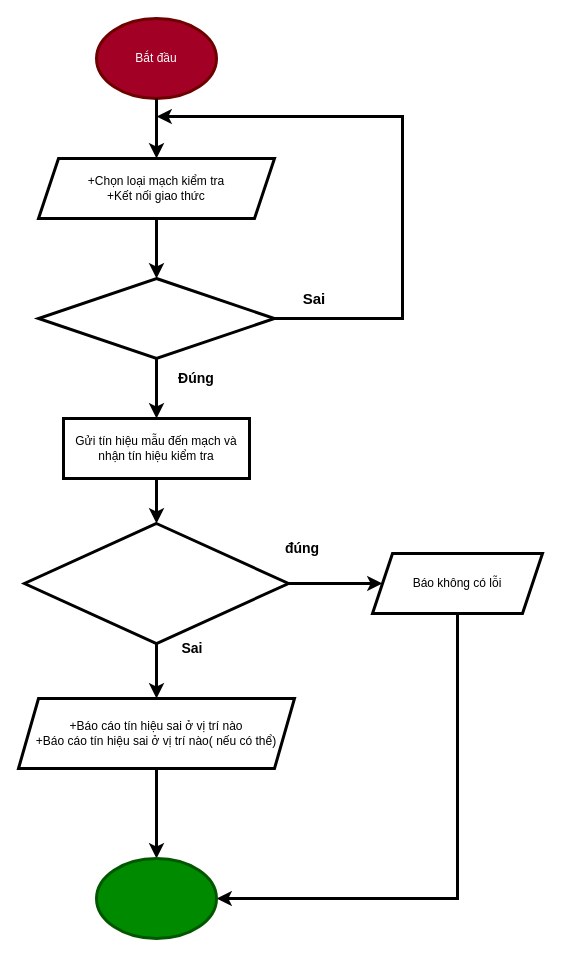
Image size: 561x957. Some labels were removed from this diagram. The shapes that lost their labels are listed below. From the top down, each one's centre as x and y in pixels, then its label:
At point (156, 318): "Kiểm tra lựa chọn (mạch, giao thức)".
At point (156, 583): "So sánh với tín hiệu mẫu và tín hiệu kiểm tra".
At point (156, 898): "Kết thúc".
